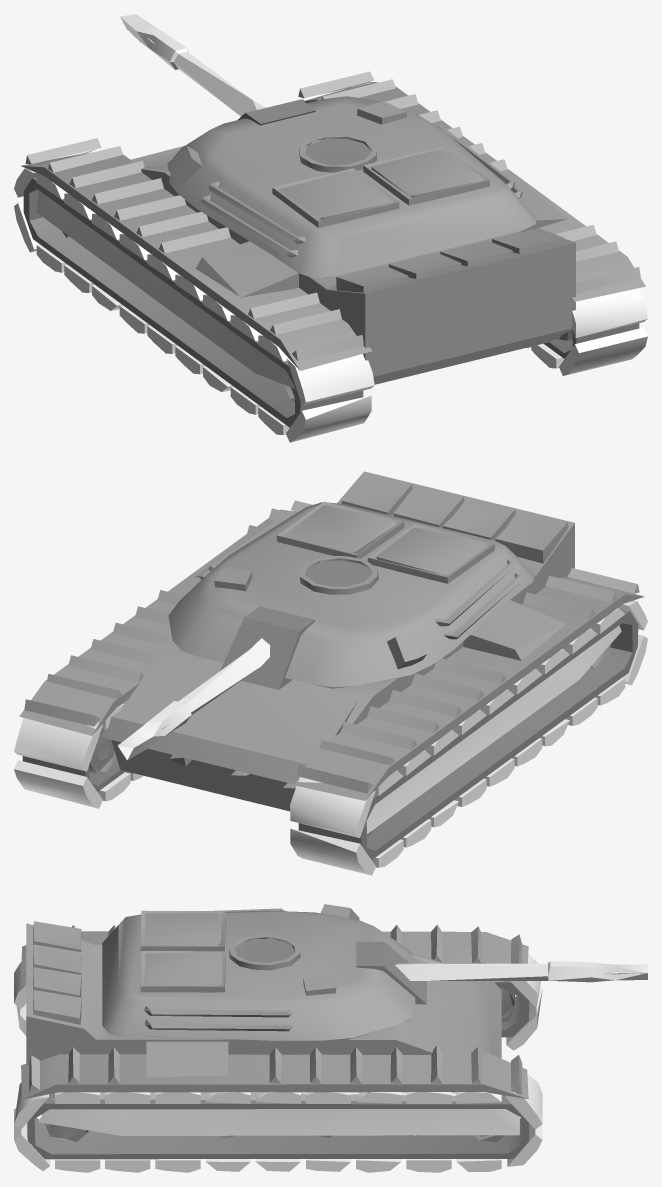
Rendered from charcoal_mortar.glb.
3 renders of one model, top to bottom at view 1: azimuth 30°, elevation 25°; view 2: azimuth 150°, elevation 25°; view 3: azimuth 270°, elevation 25°, orthographic. The views are drawn at different scales.
Parts seen in each view (by area): view 1: Body, Turret, Barrel; view 2: Body, Turret, Barrel; view 3: Body, Turret, Barrel.
Part boxes in pixels (x1=…): Body: x1=14, y1=71, x2=647, y2=442; Turret: x1=167, y1=96, x2=535, y2=278; Barrel: x1=120, y1=14, x2=265, y2=116; Body: x1=14, y1=471, x2=647, y2=875; Turret: x1=168, y1=501, x2=534, y2=689; Barrel: x1=118, y1=638, x2=270, y2=760; Body: x1=14, y1=921, x2=542, y2=1172; Turret: x1=102, y1=904, x2=426, y2=1041; Barrel: x1=395, y1=961, x2=647, y2=982.
Size of the model in its own units: 4.28 by 1.93 by 7.5.
Materials: 2 (1 with a texture image).
